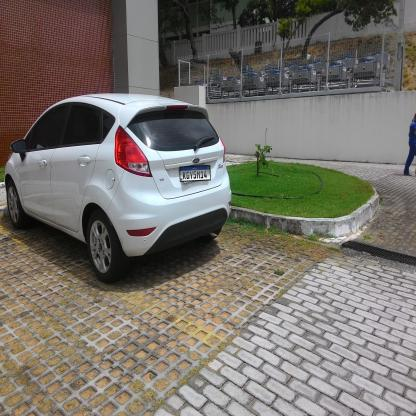PlacaM: (180, 165, 210, 182)
